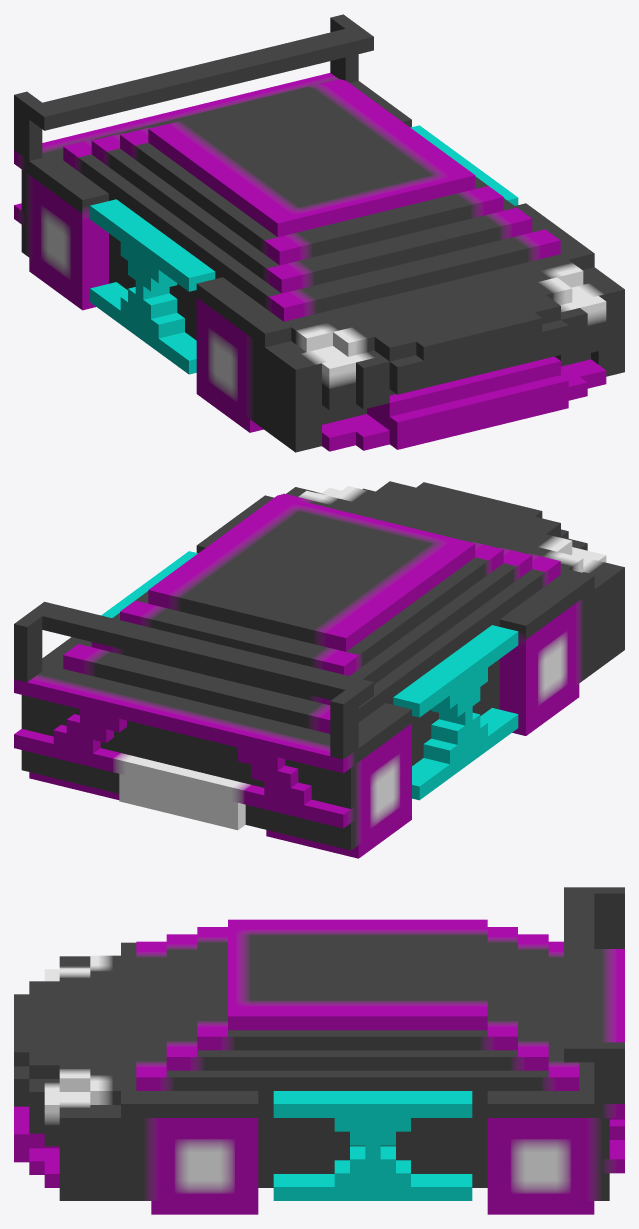
File: Car_27.fbx
The picture shows the model from 3 angles, top to bottom: view 1: azimuth 30°, elevation 25°; view 2: azimuth 150°, elevation 25°; view 3: azimuth 270°, elevation 25°; orthographic projection.
Parts seen in each view (by area): view 1: Car_27; view 2: Car_27; view 3: Car_27.
Boxes of the visible parts, <box> form: Car_27: <box>14,14,624,452</box>; Car_27: <box>14,481,624,858</box>; Car_27: <box>14,887,624,1214</box>.
Bounding box in the file's own units: 25 × 12 × 40.
Materials: 1 (1 with a texture image).
